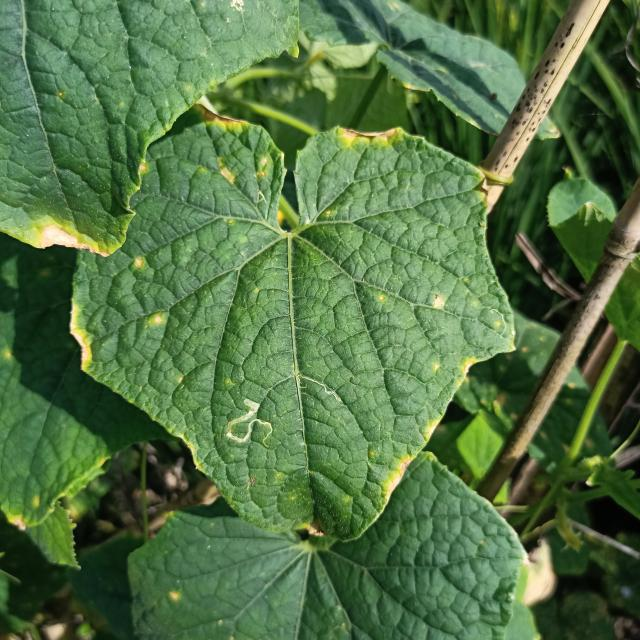disease_cucumber: (218, 155, 272, 188), (431, 352, 479, 381), (429, 293, 448, 312), (147, 311, 168, 328), (132, 254, 145, 272)
